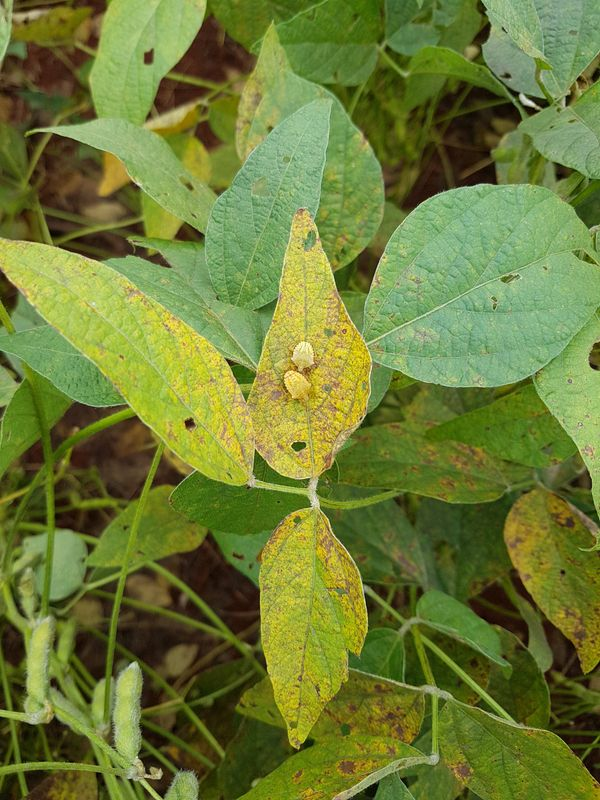Euschistus_heros_ninfa: (275, 370, 319, 408), (285, 336, 322, 372)
